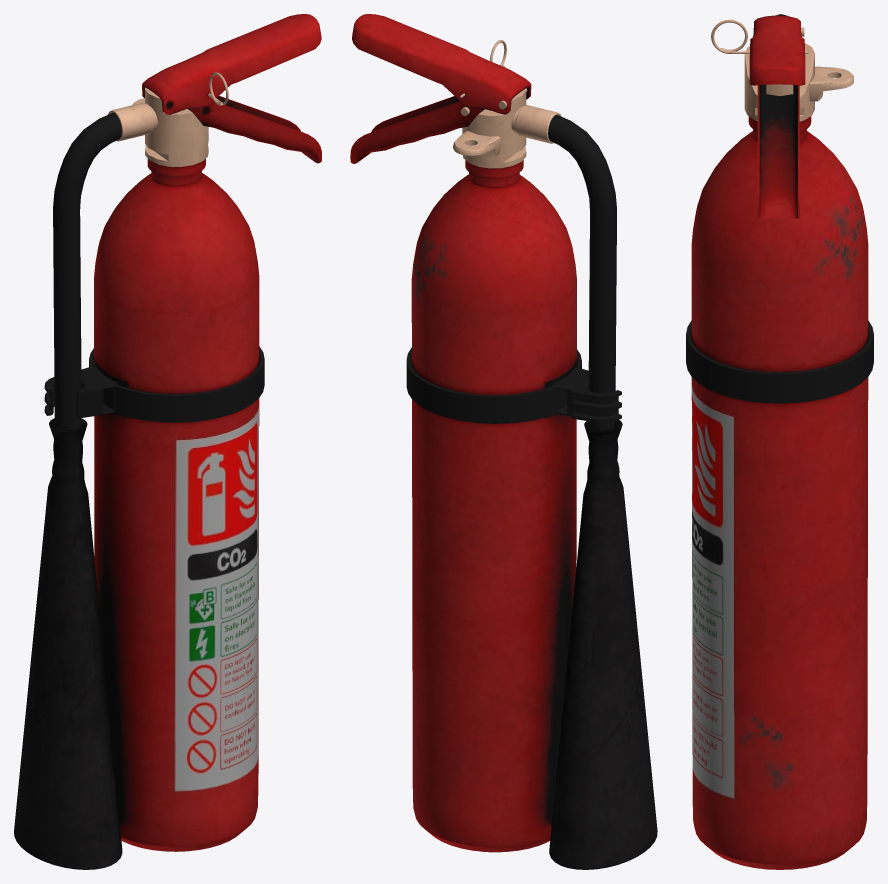
The model's file is theappxr_Estintore_co2_NODRACO_standard.glb.
3 views of the same model, side by side, from view 1: azimuth 30°, elevation 25°; view 2: azimuth 150°, elevation 25°; view 3: azimuth 270°, elevation 25° (orthographic). The views are drawn at different scales.
Visible parts, largest first — view 1: Fire-extinguisherCO2, Moveable01, Hose01, Moveable02, Moveable03; view 2: Fire-extinguisherCO2, Moveable01, Hose01, Moveable02, Moveable03; view 3: Fire-extinguisherCO2, Moveable03, Moveable02, Pin.
Part boxes in pixels (<box>): Fire-extinguisherCO2: <box>44,87,264,851</box>; Moveable01: <box>14,418,122,869</box>; Hose01: <box>53,112,121,429</box>; Moveable02: <box>142,14,321,114</box>; Moveable03: <box>188,96,321,163</box>; Fire-extinguisherCO2: <box>406,88,621,852</box>; Moveable01: <box>549,420,657,869</box>; Hose01: <box>548,115,616,430</box>; Moveable02: <box>352,14,531,114</box>; Moveable03: <box>350,96,490,163</box>; Fire-extinguisherCO2: <box>686,27,873,869</box>; Moveable03: <box>757,84,799,218</box>; Moveable02: <box>749,15,805,85</box>; Pin: <box>711,19,808,53</box>.
Bounding box in the file's own units: 0.3753 × 0.9809 × 0.1947.
2 materials, 1 textured.
